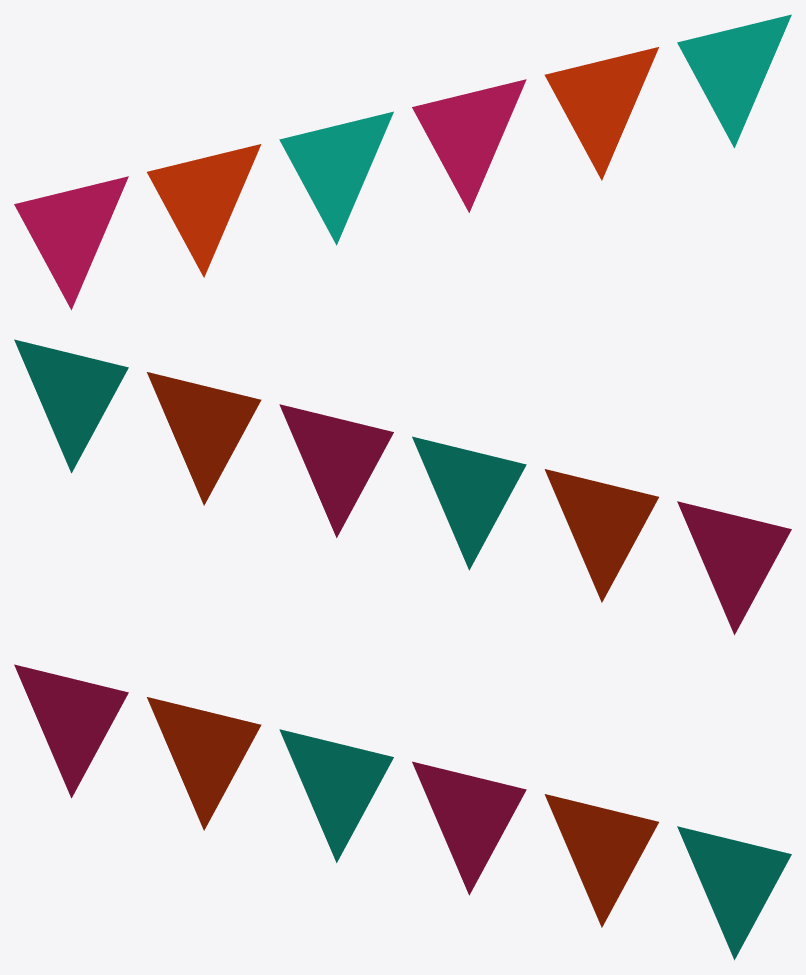
The model's file is flag.glb.
The picture shows the model from 3 angles, top to bottom: view 1: azimuth 30°, elevation 25°; view 2: azimuth 150°, elevation 25°; view 3: azimuth 330°, elevation 25°; orthographic projection.
Visible parts, largest first — view 1: Polygon_2_0_1, Polygon_1_1_1, Polygon_2_1; view 2: Polygon_2_0_1, Polygon_1_1_1, Polygon_2_1; view 3: Polygon_2_1, Polygon_1_1_1, Polygon_2_0_1.
Boxes of the visible parts, bbox=[...] form: Polygon_2_0_1: bbox=[279, 14, 791, 245]; Polygon_1_1_1: bbox=[147, 47, 658, 277]; Polygon_2_1: bbox=[14, 79, 526, 310]; Polygon_2_0_1: bbox=[14, 339, 526, 570]; Polygon_1_1_1: bbox=[147, 372, 658, 602]; Polygon_2_1: bbox=[279, 404, 791, 635]; Polygon_2_1: bbox=[14, 664, 526, 895]; Polygon_1_1_1: bbox=[147, 697, 658, 927]; Polygon_2_0_1: bbox=[279, 729, 791, 960].
Bounding box in the file's own units: 4.96 × 0.7325 × 0.
